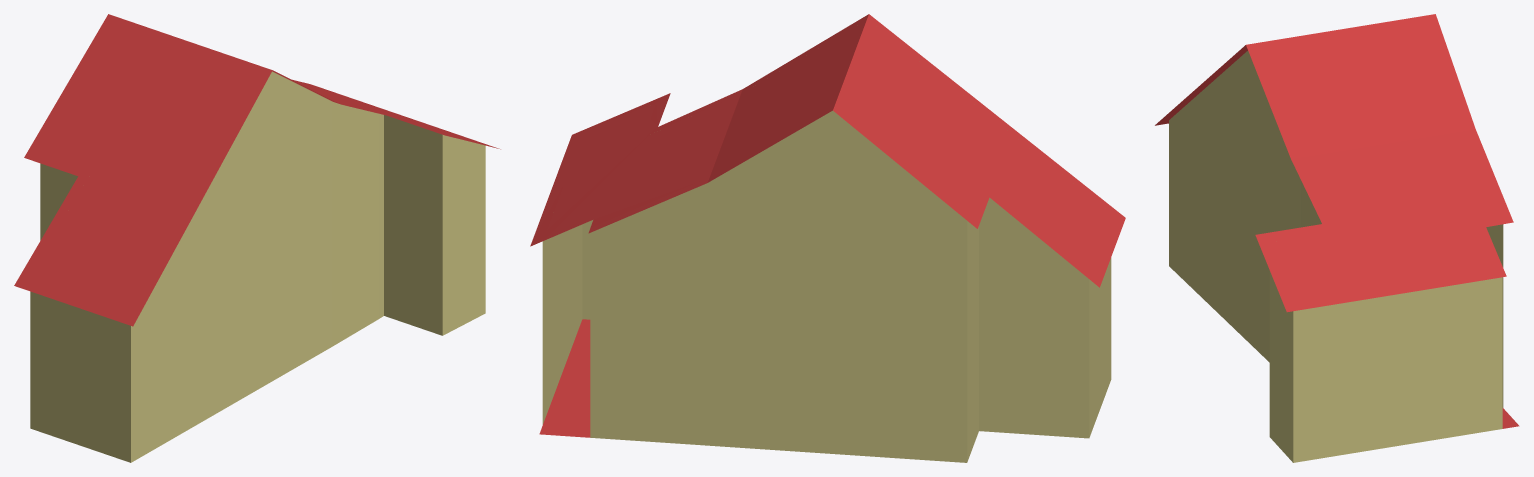
3 views of the same model, side by side, from view 1: azimuth 30°, elevation 25°; view 2: azimuth 150°, elevation 25°; view 3: azimuth 270°, elevation 25° (orthographic). The views are drawn at different scales.
Size of the model in its own units: 24.29 by 16.48 by 15.27.
